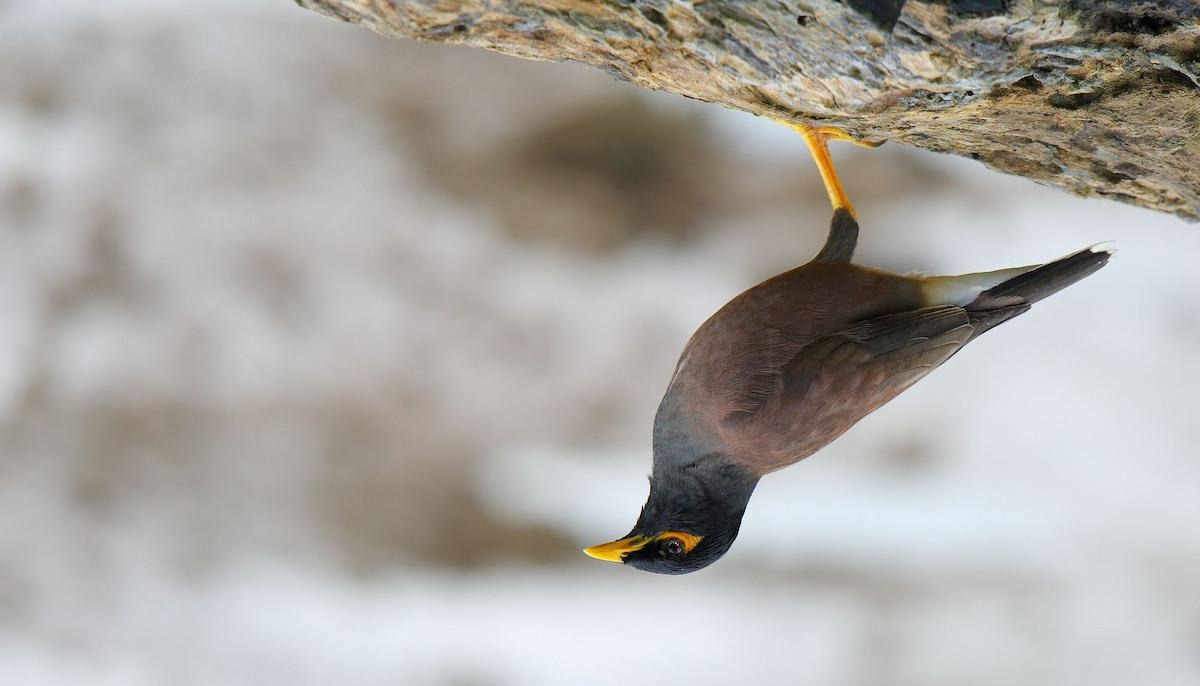myna: (554, 133, 1099, 629)
